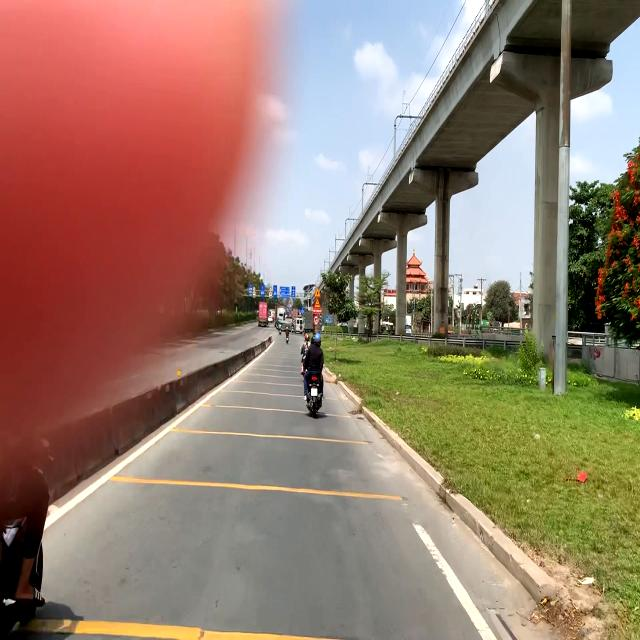P.123b: (313, 315, 320, 326)
W.207b: (314, 287, 320, 297)
W.245a: (314, 298, 321, 307)
